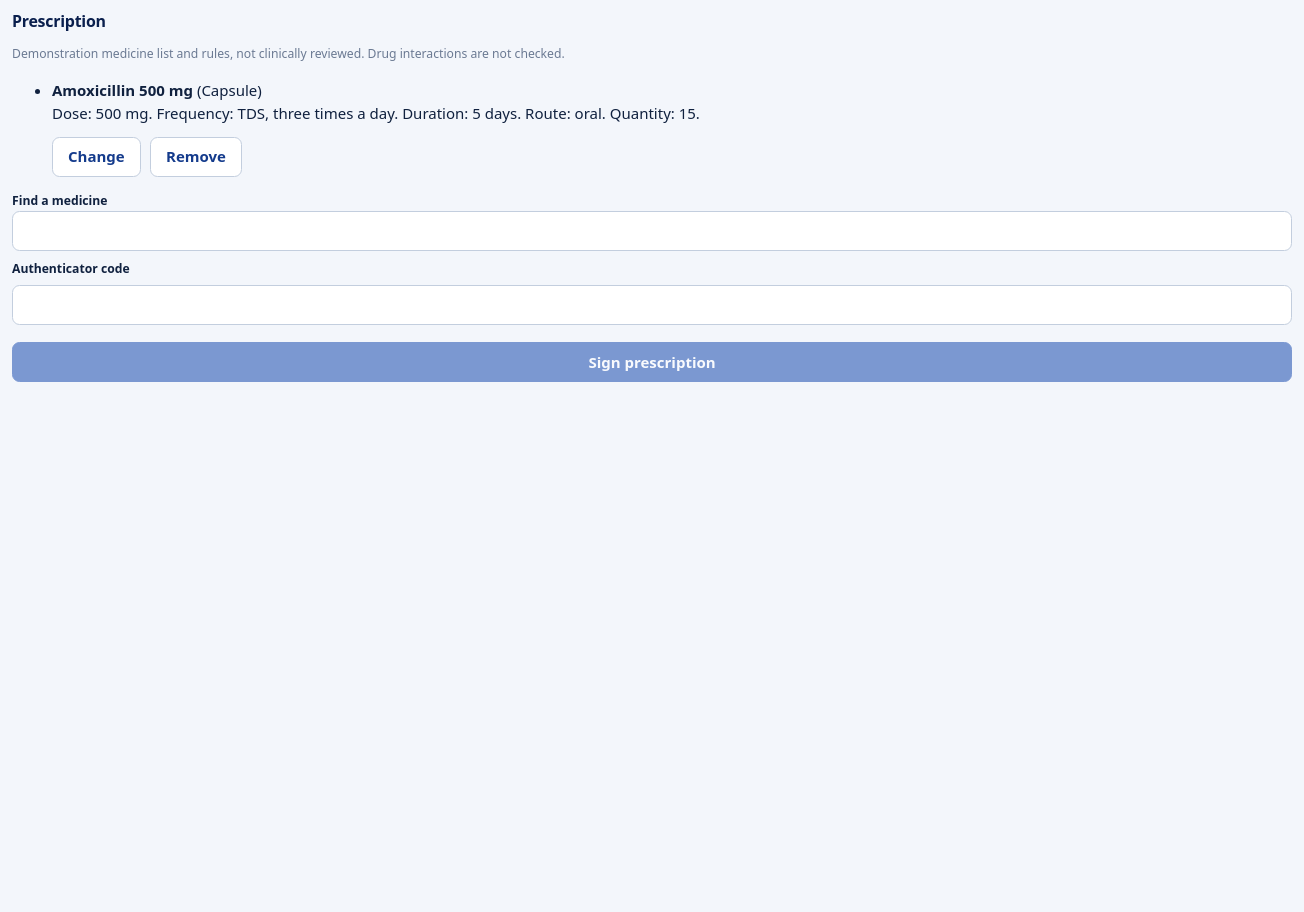
Test case: PrescriptionPanel › shows why a save was refused
The image size is (1304, 912).
Click the button with aria-label "Change Amoxicillin" at (96, 157), box [52,137,141,177]
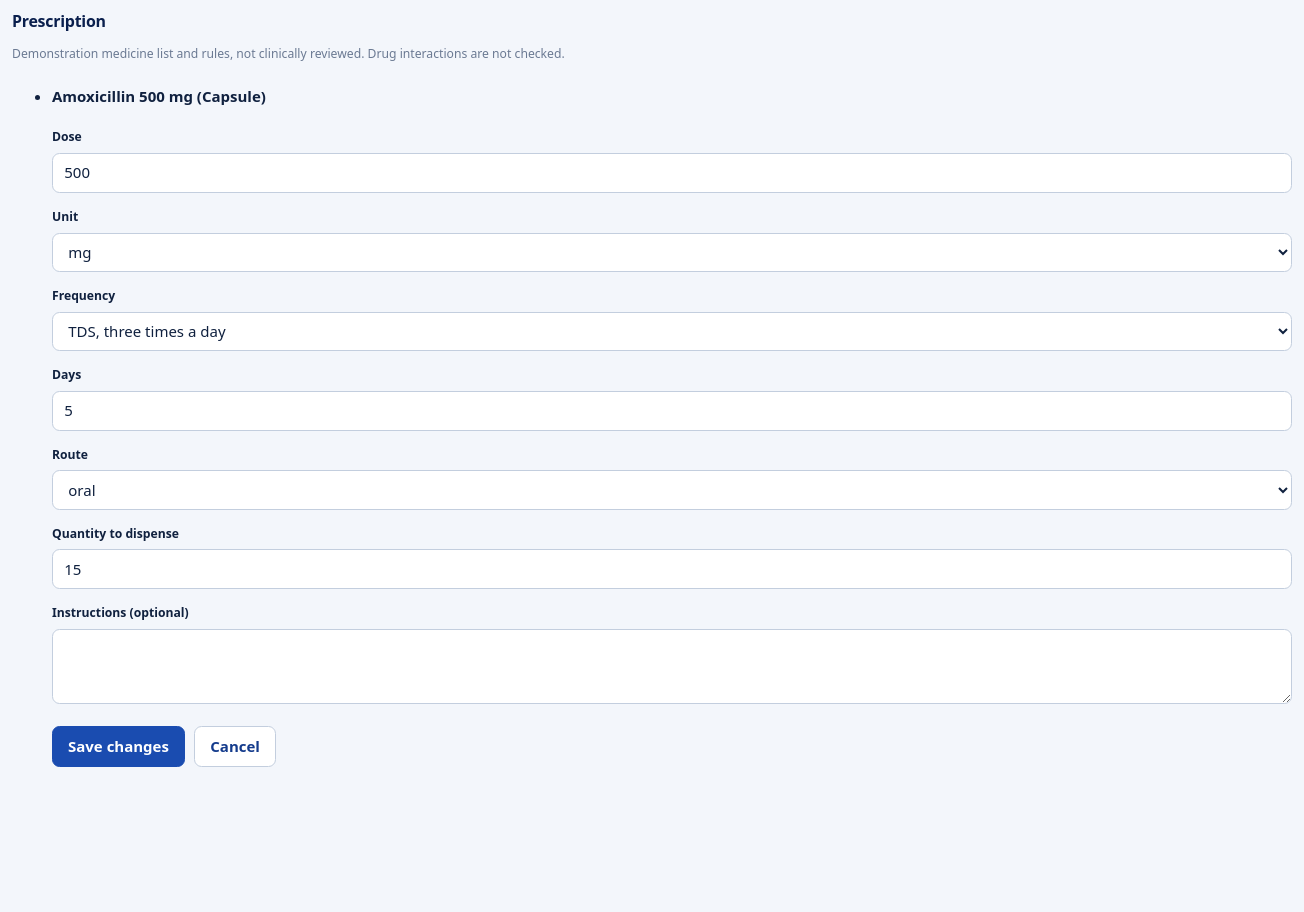
Click the button "Save changes" at (118, 747), box [52,726,185,767]
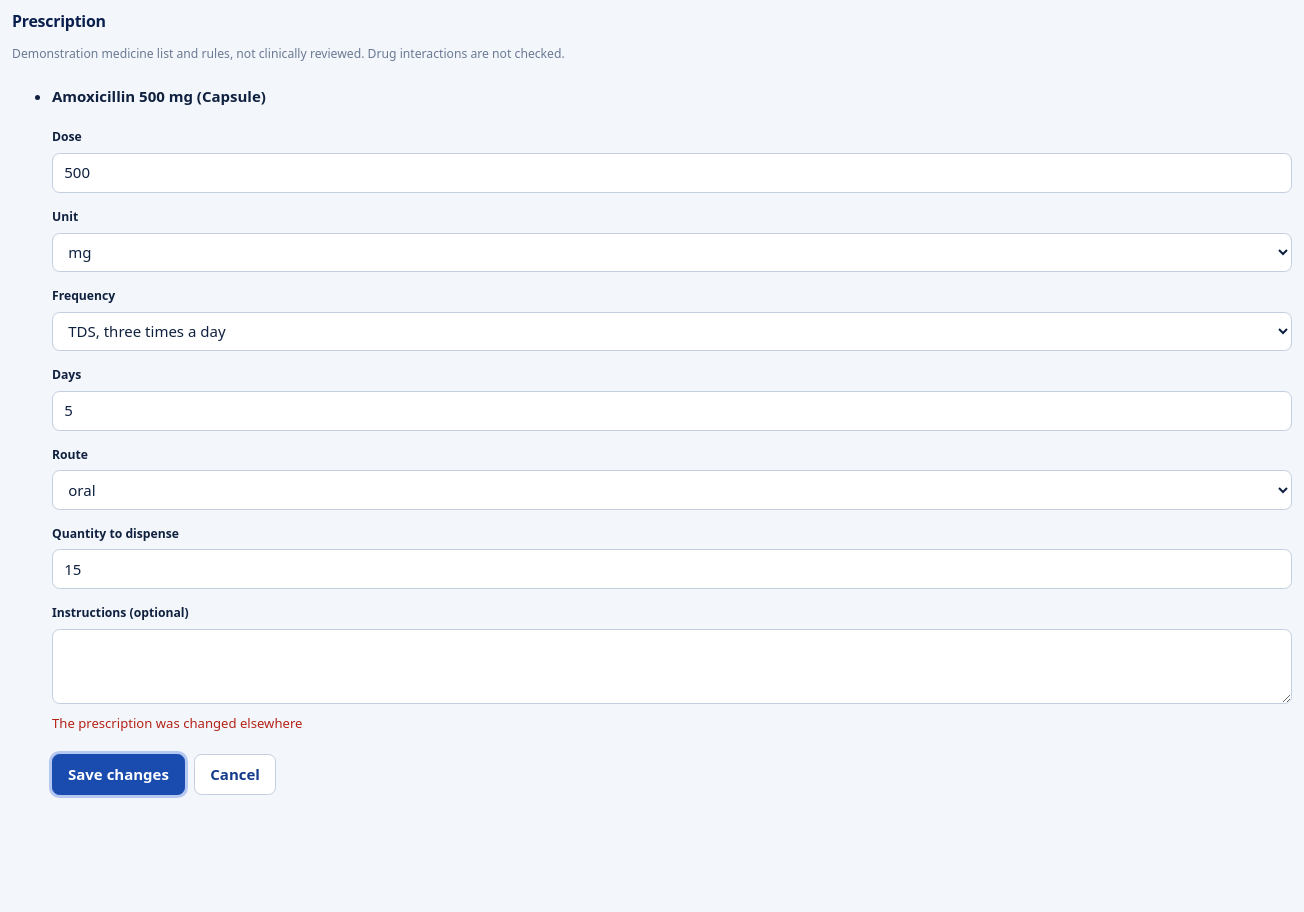
Expected: the message shows "changed elsewhere", [52,714,302,732]
